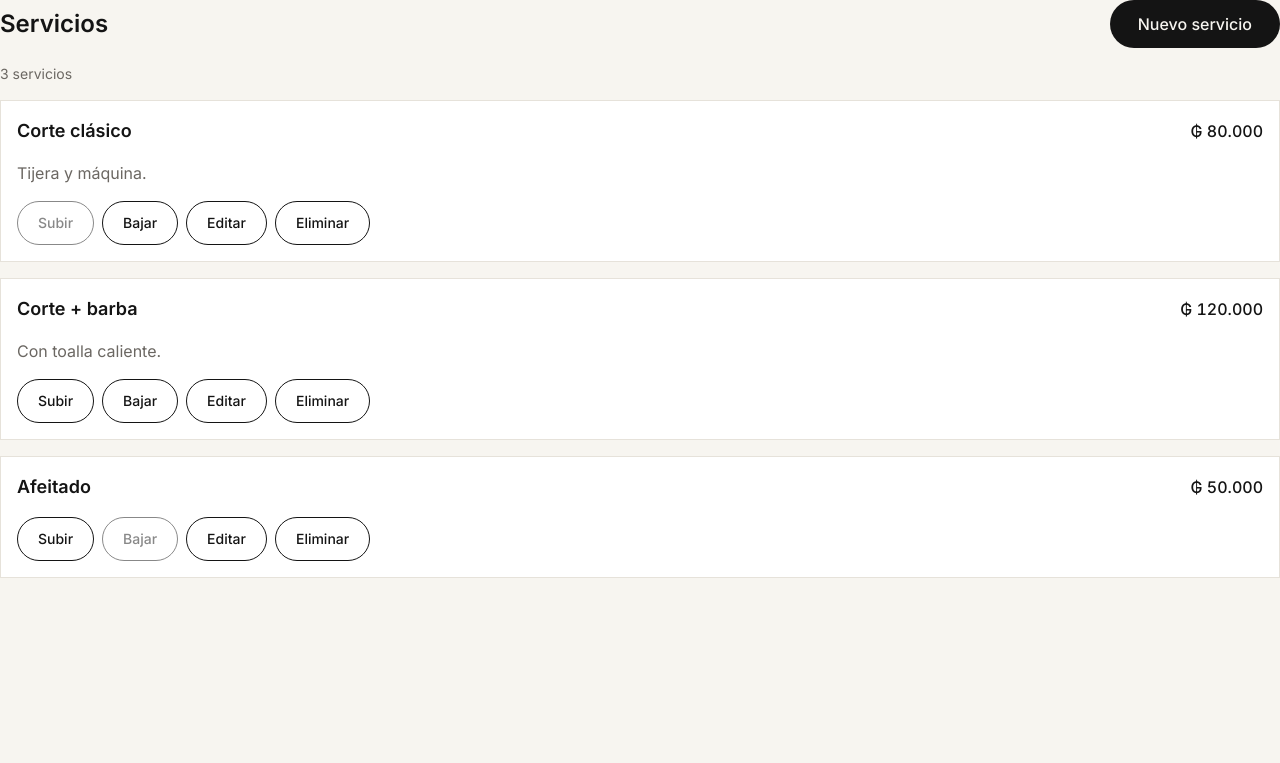
Test: edición en línea › Editar expande el formulario con los datos y marca aria-expanded
Step 1. Click the button with aria-label "Editar Corte + barba" → (226, 401), box [186, 379, 267, 423]
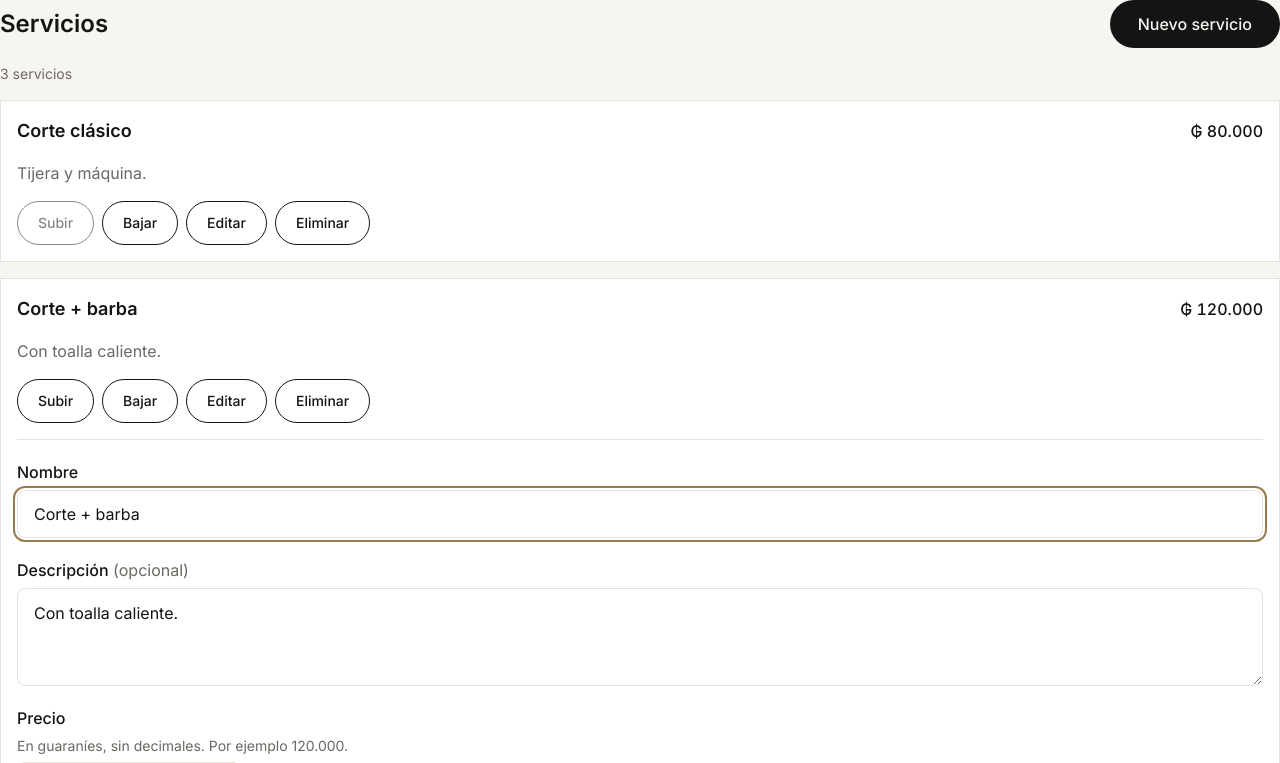
Now the field labelled "Nombre" holds "Corte + barba", box [17, 490, 1263, 538]
